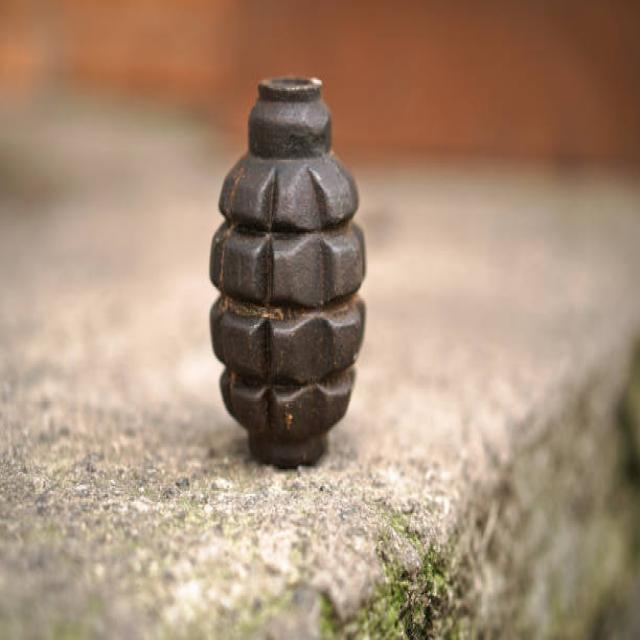grenade: (208, 73, 374, 472)
